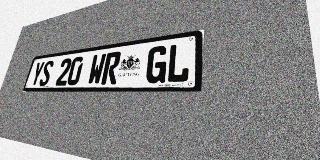0: (66, 56, 84, 85)
2: (55, 58, 73, 86)
G: (144, 45, 169, 83)
L: (165, 42, 191, 83)
R: (101, 51, 122, 84)
S: (38, 60, 54, 86)
W: (87, 53, 107, 85)
Y: (29, 61, 45, 86)
